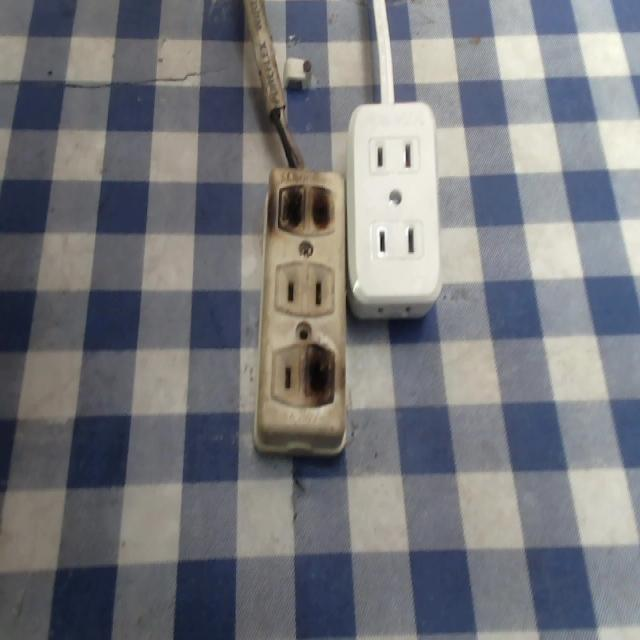-: (276, 180, 335, 235), (304, 341, 337, 407)
